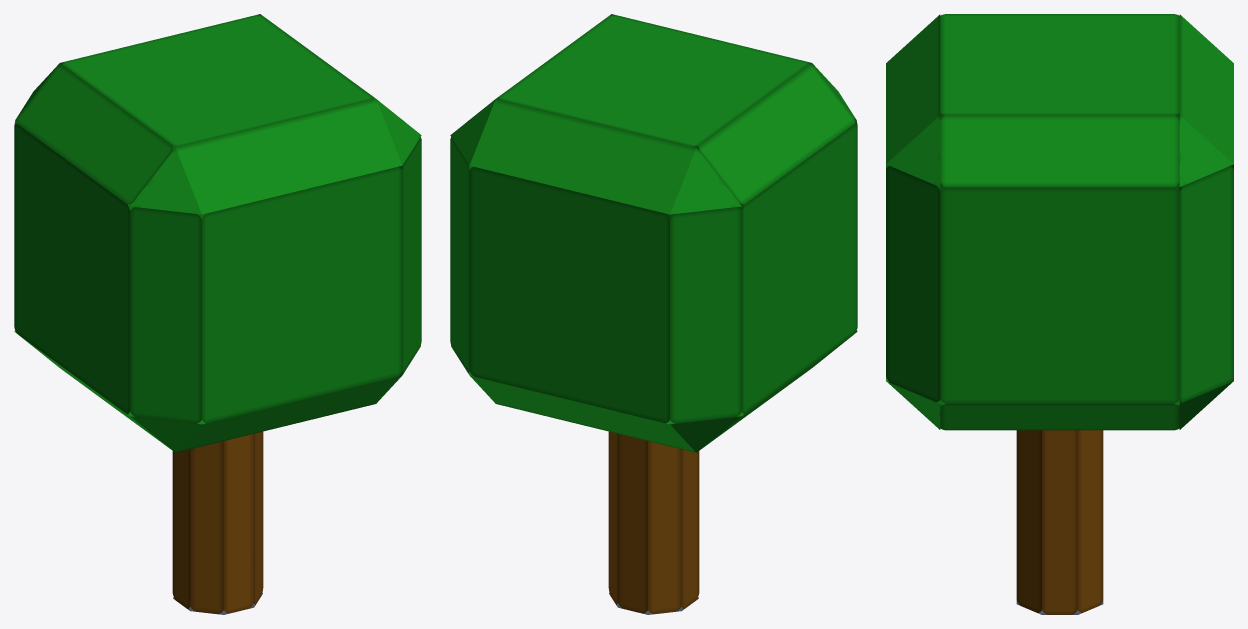
Rendered from Tree.fbx.
3 views of the same model, side by side, from view 1: azimuth 30°, elevation 25°; view 2: azimuth 150°, elevation 25°; view 3: azimuth 270°, elevation 25° (orthographic). The views are drawn at different scales.
Visible parts, largest first — view 1: beveled_cuboid, cylinder; view 2: beveled_cuboid, cylinder; view 3: beveled_cuboid, cylinder.
Part boxes in pixels (box(x1,y1,x2,y2)): beveled_cuboid: box(14, 14, 421, 452); cylinder: box(172, 431, 263, 614); beveled_cuboid: box(450, 14, 857, 452); cylinder: box(608, 431, 699, 614); beveled_cuboid: box(886, 14, 1233, 430); cylinder: box(1016, 430, 1103, 614).
Bounding box in the file's own units: 200 × 338 × 200.
Materials: 1 (1 with a texture image).
